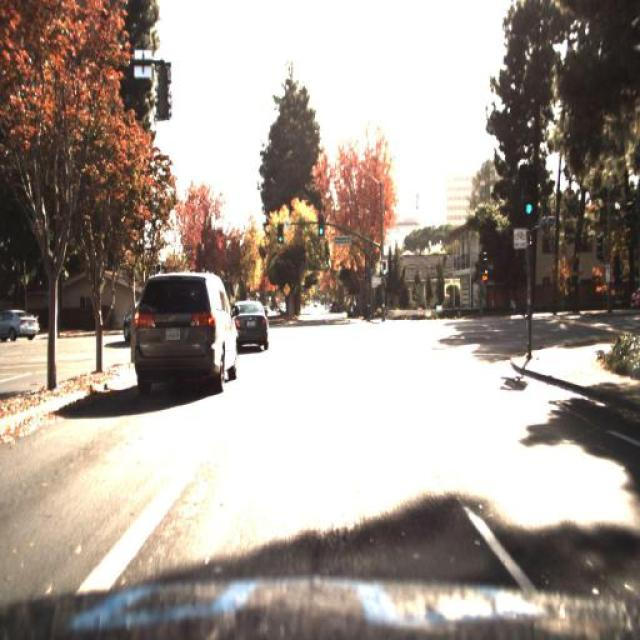car: (127, 264, 238, 392), (234, 298, 270, 354), (232, 302, 269, 354), (0, 308, 39, 344), (117, 297, 137, 344), (123, 306, 138, 344)
trafficLight-Green: (522, 177, 540, 224), (380, 255, 390, 280)
trafficLight-GreenLeft: (519, 168, 539, 223), (315, 209, 326, 241), (379, 257, 392, 282), (276, 224, 284, 246), (317, 216, 323, 238)
trafficLight-Red: (276, 225, 283, 244)
